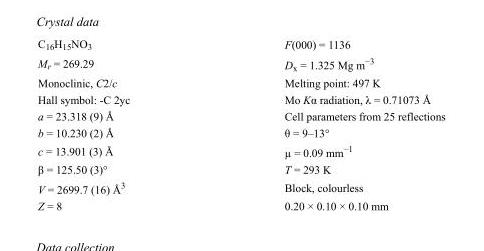table: (37, 36, 444, 211)
table column: (206, 36, 444, 211), (37, 36, 206, 211)
table row: (37, 53, 444, 74), (37, 140, 444, 160), (37, 177, 444, 197), (37, 36, 444, 53), (37, 90, 444, 107), (37, 107, 444, 124), (37, 160, 444, 177), (37, 74, 444, 90), (37, 124, 444, 140), (37, 197, 444, 211)
